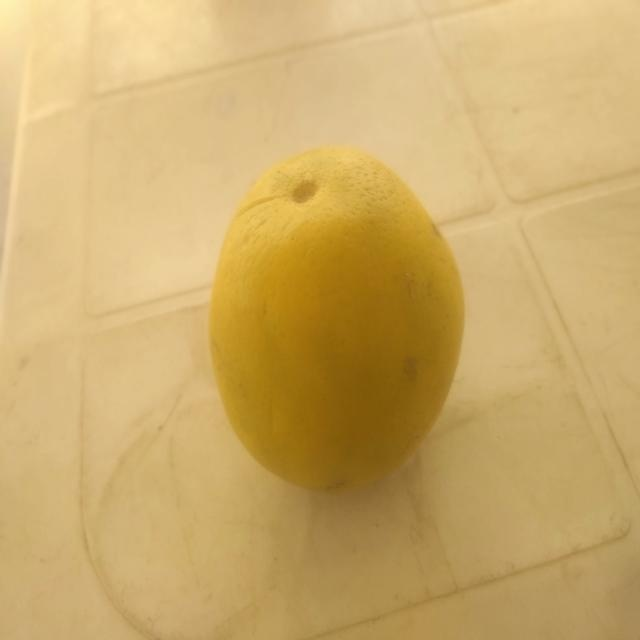agrume: (180, 130, 451, 586)
